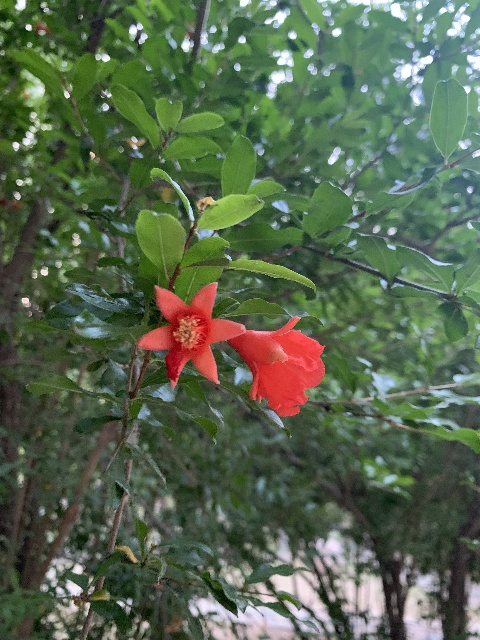flower: (135, 282, 245, 389), (228, 315, 325, 416)
